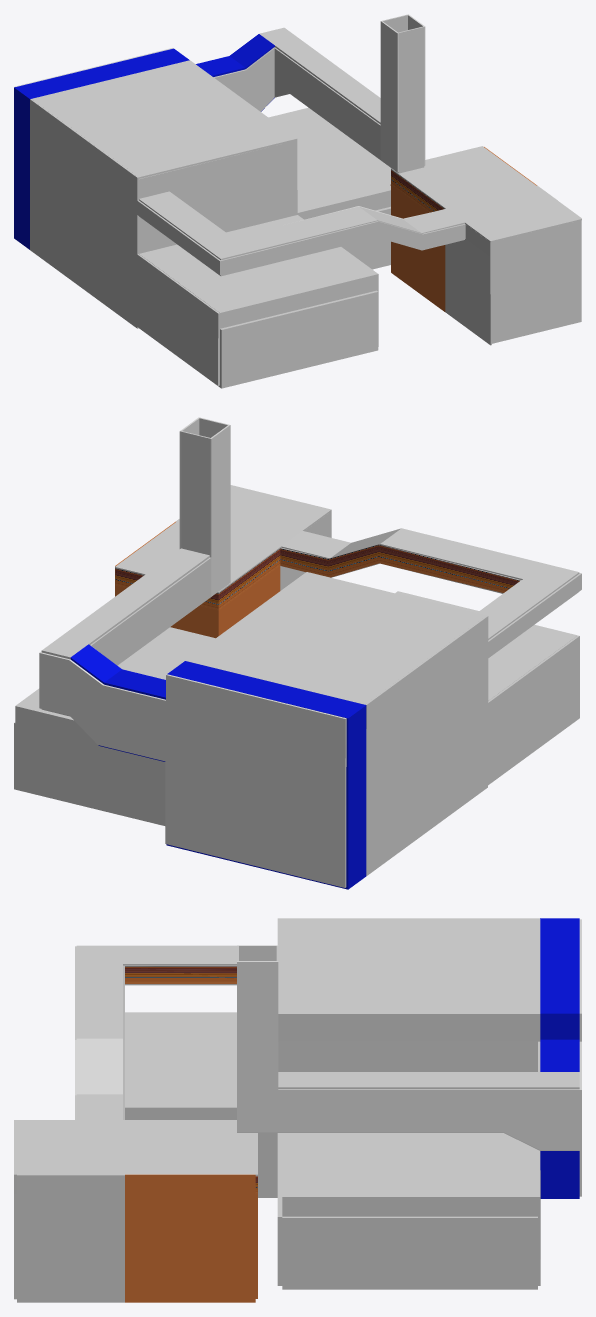
Rendered from Level01_Fps.fbx.
3 views of the same model, one above another, from view 1: azimuth 30°, elevation 25°; view 2: azimuth 150°, elevation 25°; view 3: azimuth 270°, elevation 25° (orthographic). The views are drawn at different scales.
Visible parts, largest first — view 1: Cube.006, Cube.003, Cube.004, Cube.002; view 2: Cube.006, Cube.005, Cube.003, Cube.004, Cube.002; view 3: Cube.006, Cube.005, Cube.003, Cube.001, Cube.004, Cube.002.
Boxes of the visible parts, bbox=[...] form: Cube.006: bbox=[30, 47, 581, 388]; Cube.003: bbox=[16, 14, 407, 124]; Cube.004: bbox=[14, 26, 424, 249]; Cube.002: bbox=[380, 21, 398, 172]; Cube.006: bbox=[14, 485, 581, 875]; Cube.005: bbox=[39, 651, 346, 887]; Cube.003: bbox=[41, 431, 363, 717]; Cube.004: bbox=[41, 417, 366, 889]; Cube.002: bbox=[210, 424, 230, 596]; Cube.006: bbox=[14, 918, 540, 1302]; Cube.005: bbox=[278, 919, 581, 1196]; Cube.003: bbox=[276, 919, 579, 1089]; Cube.001: bbox=[237, 961, 278, 1132]; Cube.004: bbox=[237, 918, 579, 1198]; Cube.002: bbox=[237, 945, 278, 960].
Bounding box in the file's own units: 5090 × 3566 × 6044.
